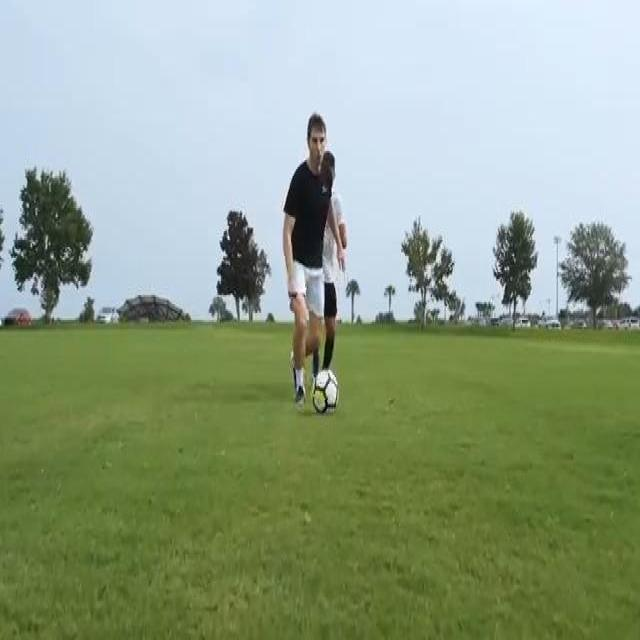Soccer Ball: (311, 369, 340, 420)
